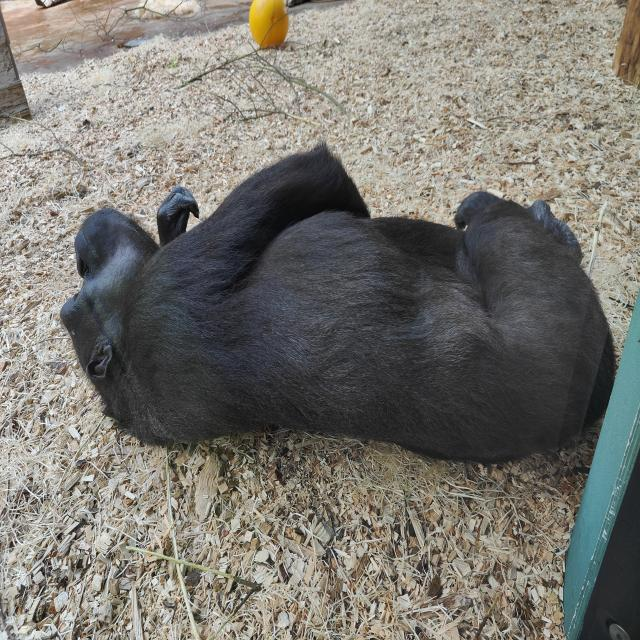monkey: (59, 140, 616, 464)
